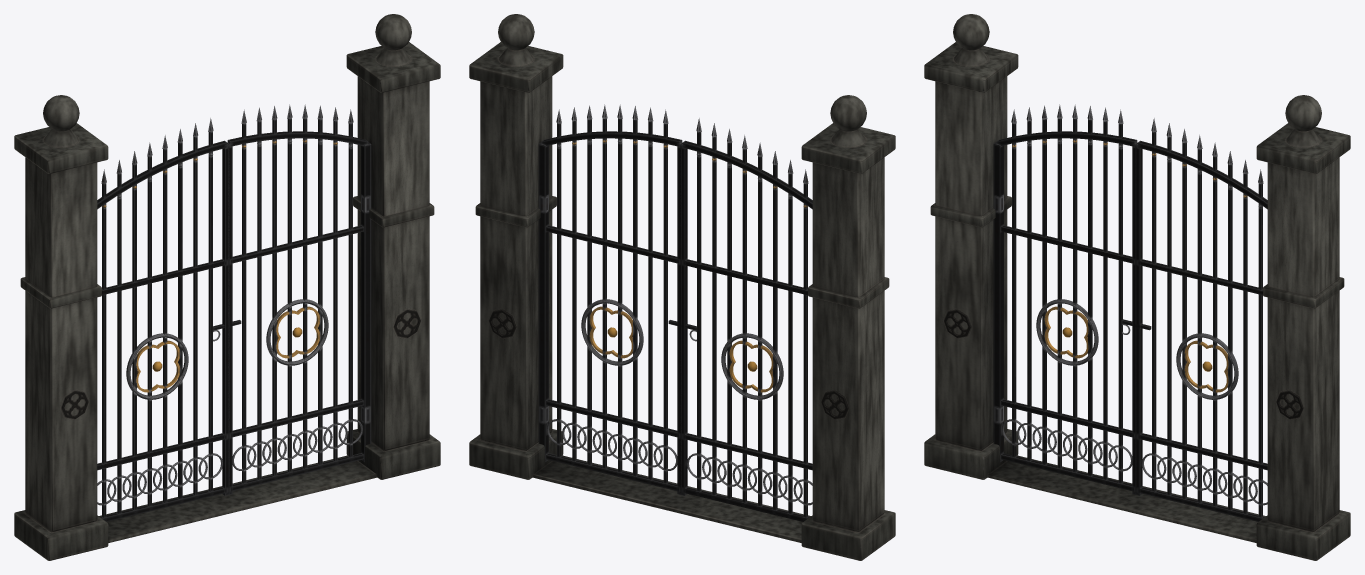
File: IronGate.fbx
3 views of the same model, side by side, from view 1: azimuth 30°, elevation 25°; view 2: azimuth 150°, elevation 25°; view 3: azimuth 330°, elevation 25° (orthographic).
Parts seen in each view (by area): view 1: IronGate_Main, IronGate_Leaf1, IronGate_Leaf0; view 2: IronGate_Main, IronGate_Leaf1, IronGate_Leaf0; view 3: IronGate_Main, IronGate_Leaf0, IronGate_Leaf1.
Part boxes in pixels (x1,y1,x2,y2): IronGate_Main: (14, 14, 440, 560); IronGate_Leaf1: (213, 104, 371, 494); IronGate_Leaf0: (97, 118, 229, 521); IronGate_Main: (469, 14, 895, 560); IronGate_Leaf1: (538, 104, 696, 494); IronGate_Leaf0: (680, 118, 812, 521); IronGate_Main: (924, 14, 1350, 560); IronGate_Leaf0: (993, 104, 1137, 494); IronGate_Leaf1: (1121, 118, 1267, 521).
Bounding box in the file's own units: 840 × 909 × 130.
